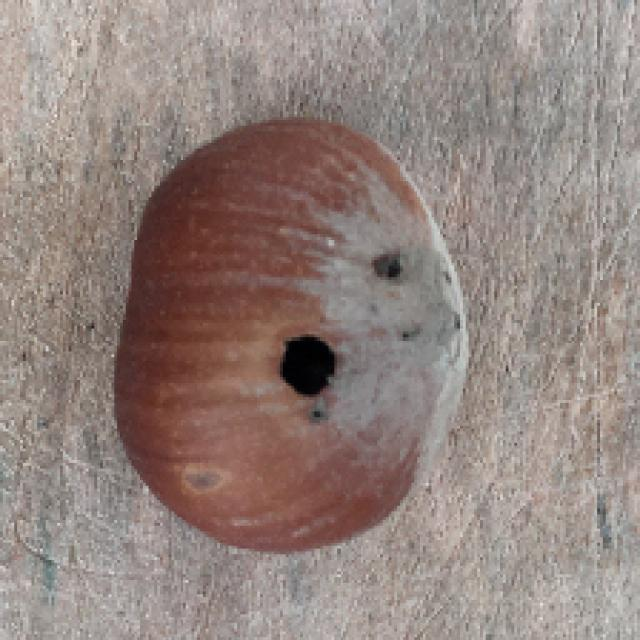damagedHazelnut: (119, 114, 463, 554)
